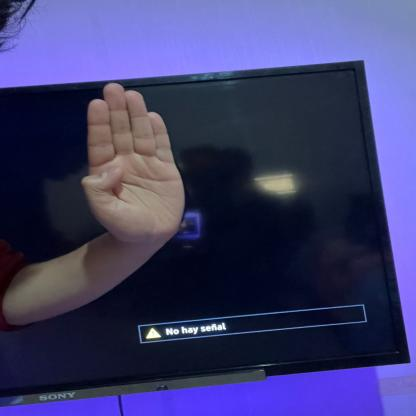B: (77, 79, 189, 246)
